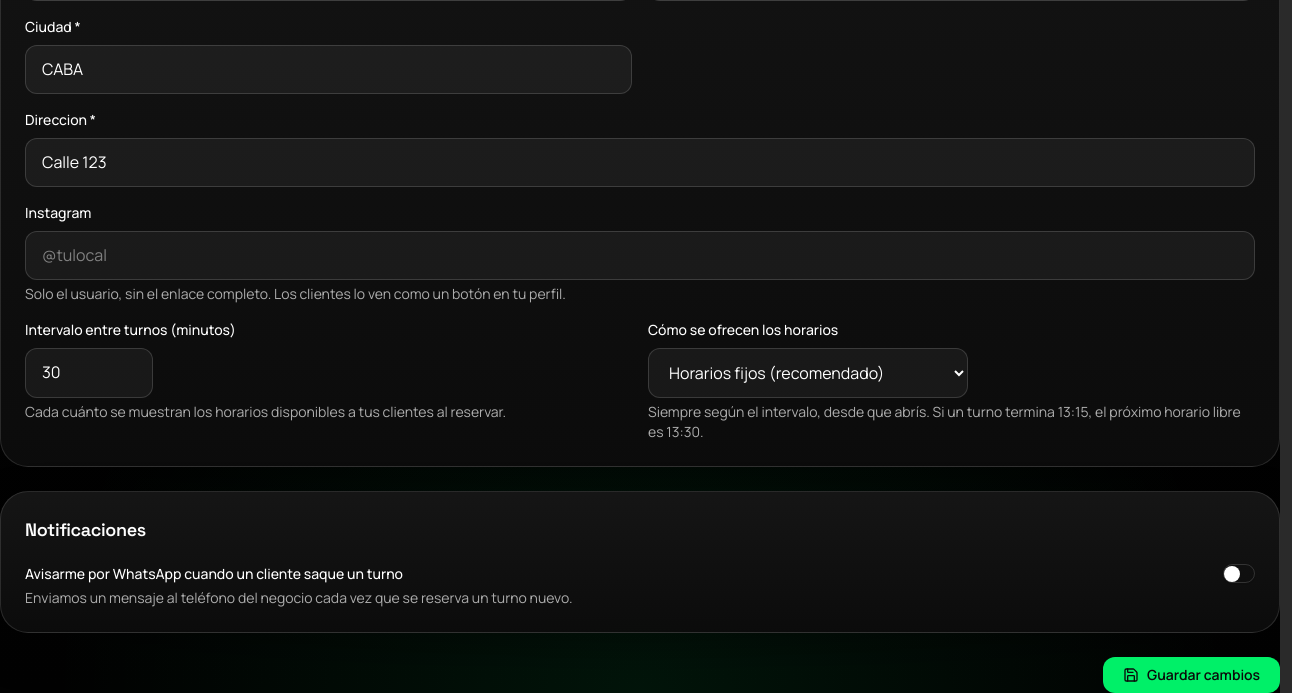
LocalProfilePage slot mode select › explains the selected mode with a concrete example
(page scrolled)
Check: the text "el próximo horario libre es 13:30" is shown, box 648,402 -> 1241,441
Select "Fijos + huecos" in the dropdown labelled "Cómo se ofrecen los horarios": coordinates (808, 373) 648,348 -> 968,398
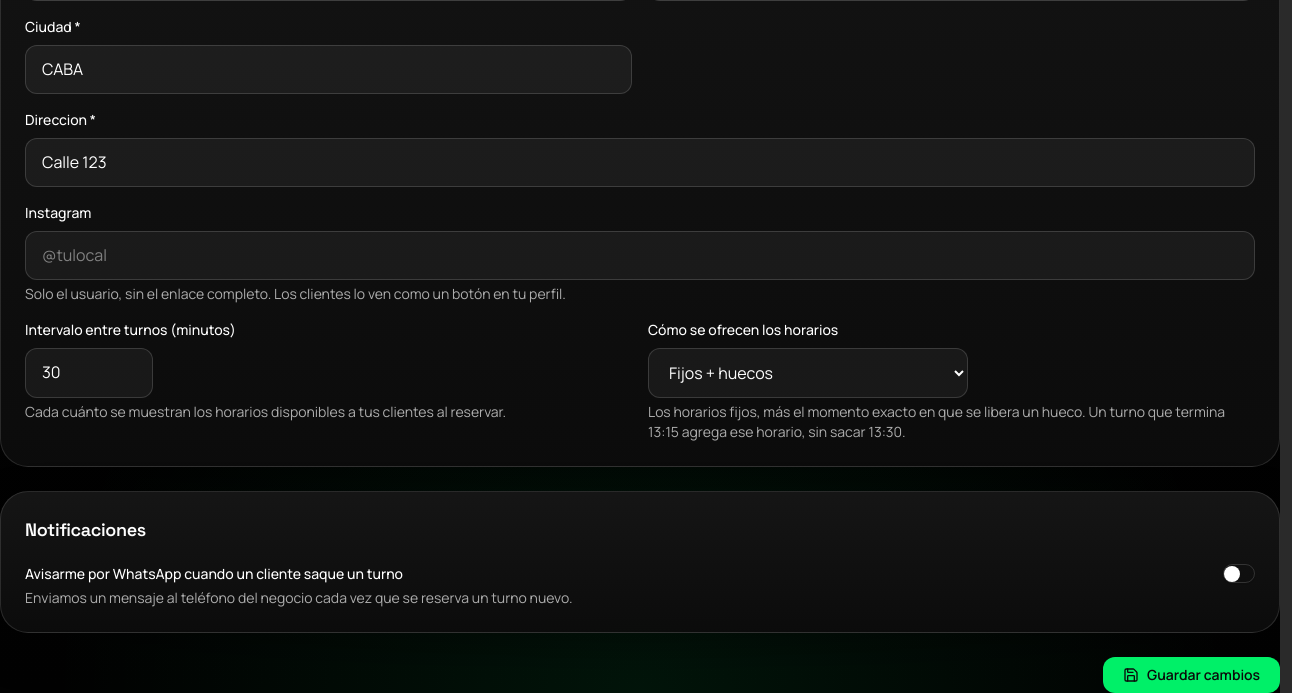
Check: the text "agrega ese horario, sin sacar 13:30" is shown, box 648,402 -> 1225,441
Select "Agenda compacta" in the dropdown labelled "Cómo se ofrecen los horarios": coordinates (808, 373) 648,348 -> 968,398
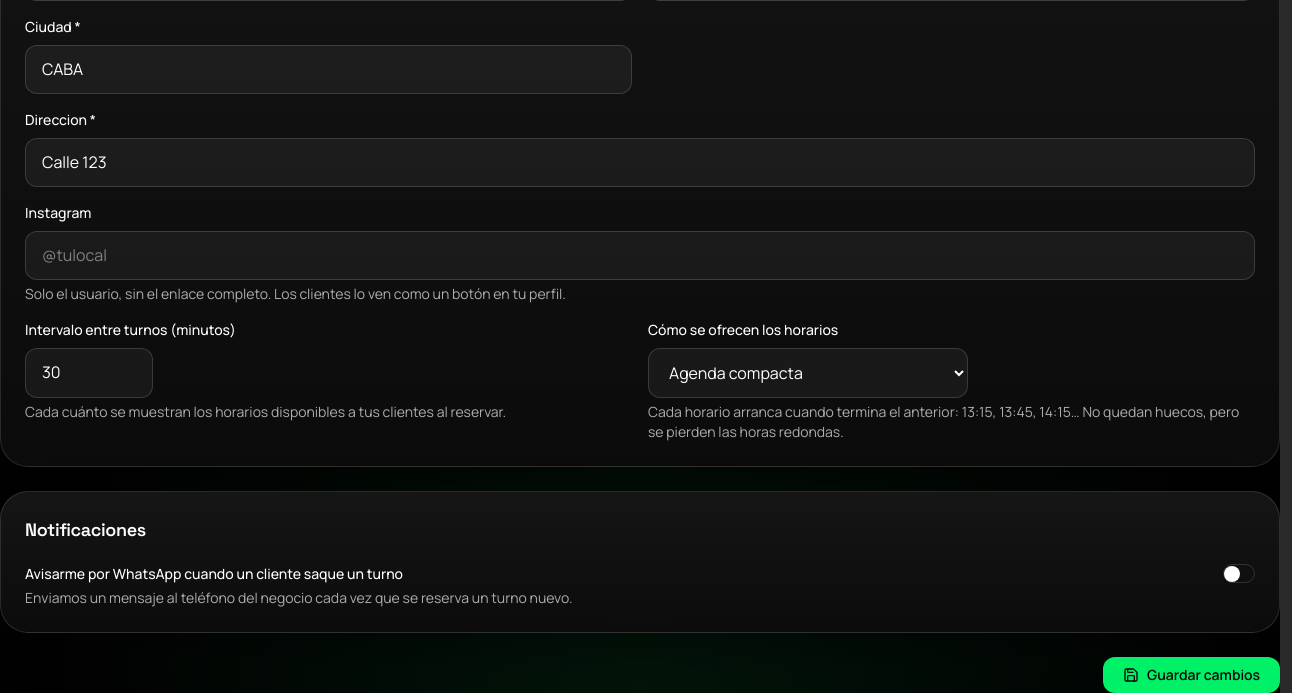
Check: the text "13:15, 13:45, 14:15" is shown, box 648,402 -> 1239,441
